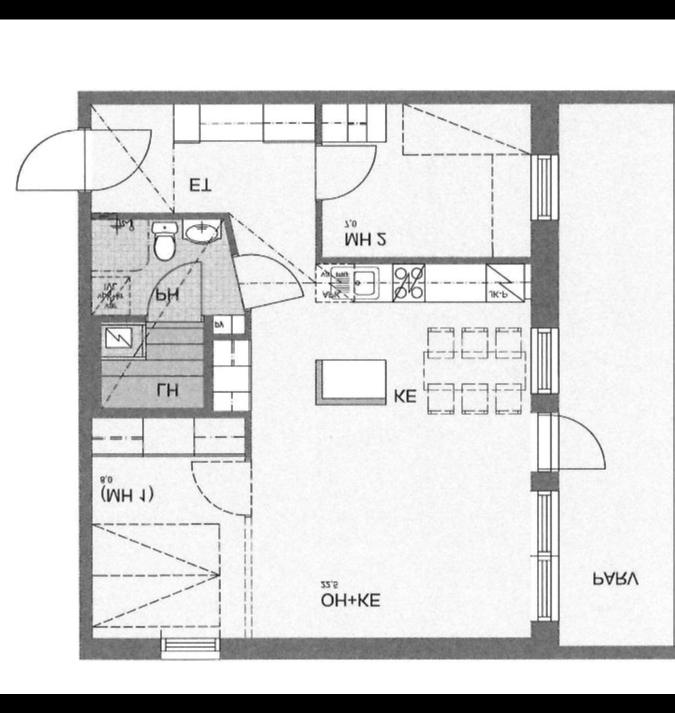bathroom: (90, 216, 238, 322)
door: (14, 116, 96, 195), (82, 123, 154, 196), (536, 411, 612, 475), (226, 249, 306, 306), (188, 454, 253, 523), (311, 143, 381, 206)
perimeter: (76, 90, 560, 662)
window: (522, 481, 564, 628), (524, 324, 566, 402), (524, 146, 562, 232), (154, 633, 225, 661)
